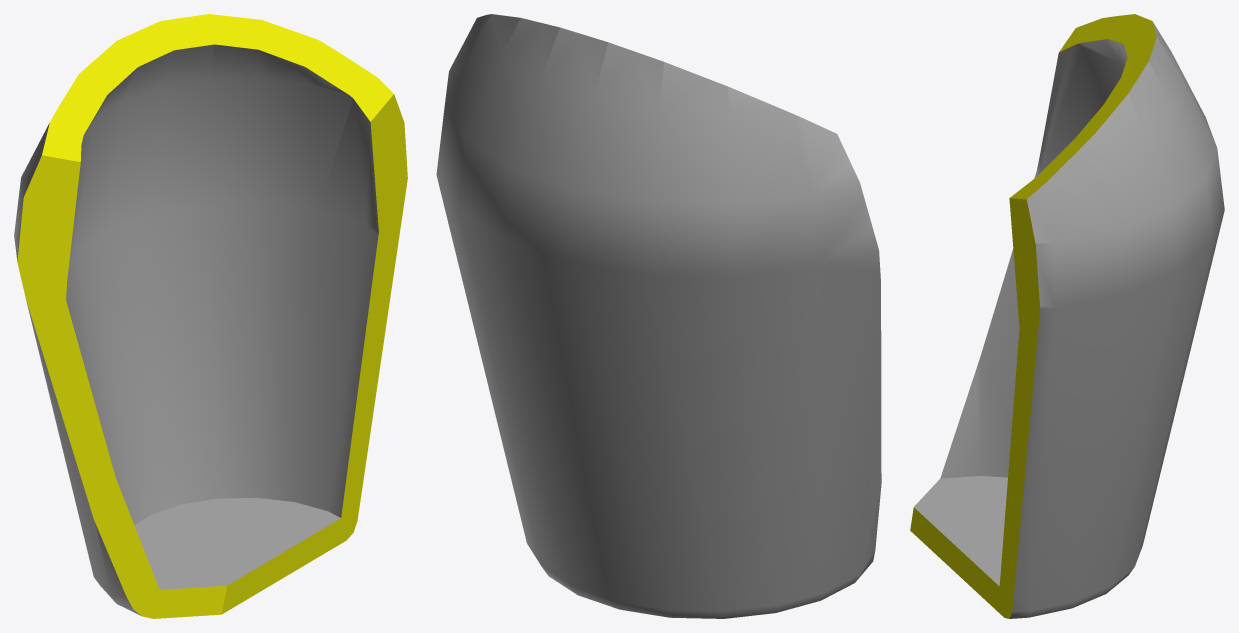
Rendered from SM_brokenVase_Part4.fbx.
3 renders of one model, left to right at view 1: azimuth 30°, elevation 25°; view 2: azimuth 150°, elevation 25°; view 3: azimuth 270°, elevation 25°, orthographic. The views are drawn at different scales.
Parts seen in each view (by area): view 1: SM_brokenVase_part4; view 2: SM_brokenVase_part4; view 3: SM_brokenVase_part4.
Part boxes in pixels (x1=…): SM_brokenVase_part4: x1=14, y1=14, x2=407, y2=618; SM_brokenVase_part4: x1=436, y1=14, x2=881, y2=618; SM_brokenVase_part4: x1=910, y1=14, x2=1224, y2=618.
Size of the model in its own units: 65.95 by 82.18 by 44.87.
